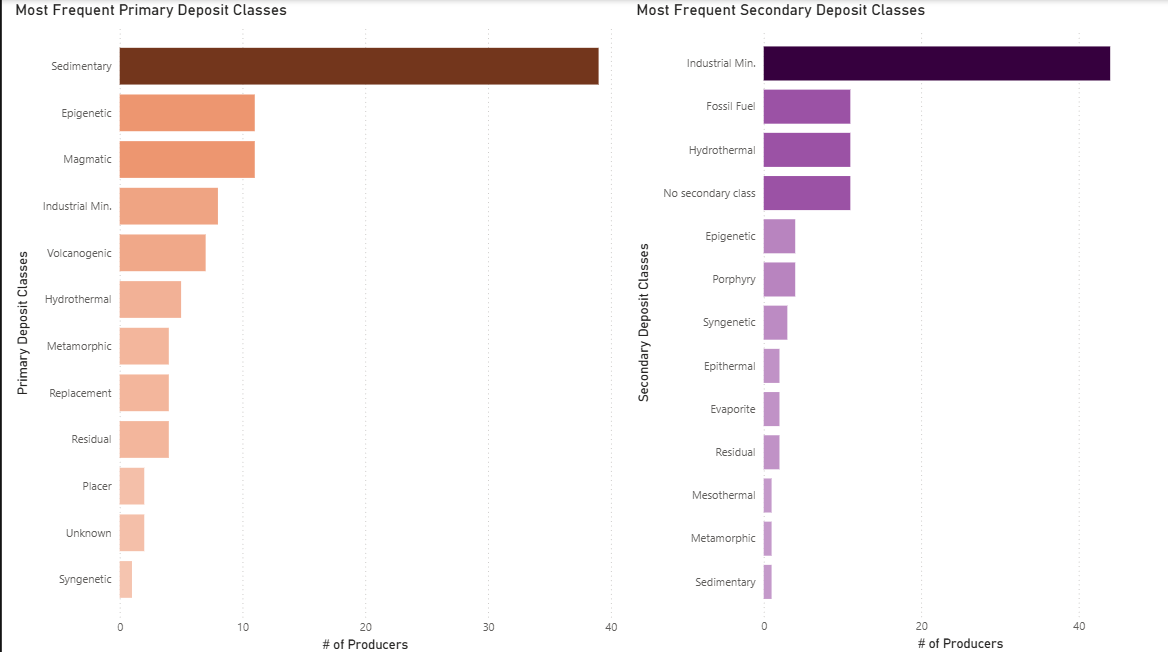

What the dashboard file says about the page in this screenshot:
{"tool":"powerbi","page":{"name":"Frequent Class of Extracts","canvas":[1280,720],"ordinal":3},"visuals":[{"type":"clusteredBarChart","title":"Most Frequent Primary Deposit Classes","fields":{"Category":["MineralOccurrenceData.DEPCLA_D1                                         "],"Y":["CountNonNull(MineralOccurrenceData.DEPCLA_D1                                         )"]},"box":[9.6,0,671,720.4],"z":0},{"type":"clusteredBarChart","title":"Most Frequent Secondary Deposit Classes","fields":{"Category":["MineralOccurrenceData.DEPCLA_D2                                         "],"Y":["CountNonNull(MineralOccurrenceData.DEPCLA_D2                                         )"]},"box":[691,0,589,720],"z":1000}]}

Visuals, with their boxes in screenshot pixels (x1, y1, x2, y2), scaled from the page's 1280x720 canvas onto the 1168x652 screenshot:
"Most Frequent Primary Deposit Classes" clusteredBarChart: locate(9, 0, 621, 651)
"Most Frequent Secondary Deposit Classes" clusteredBarChart: locate(631, 0, 1167, 651)
